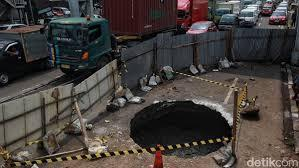Pothole: (124, 91, 244, 159)
